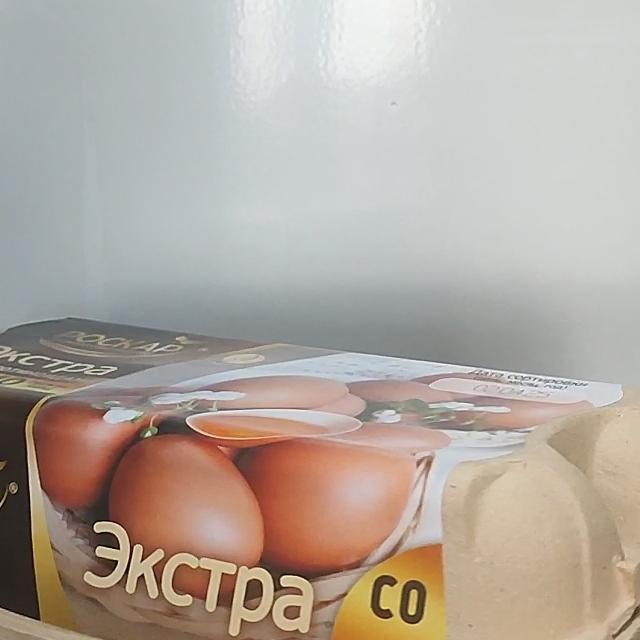egg: (0, 290, 640, 640)
